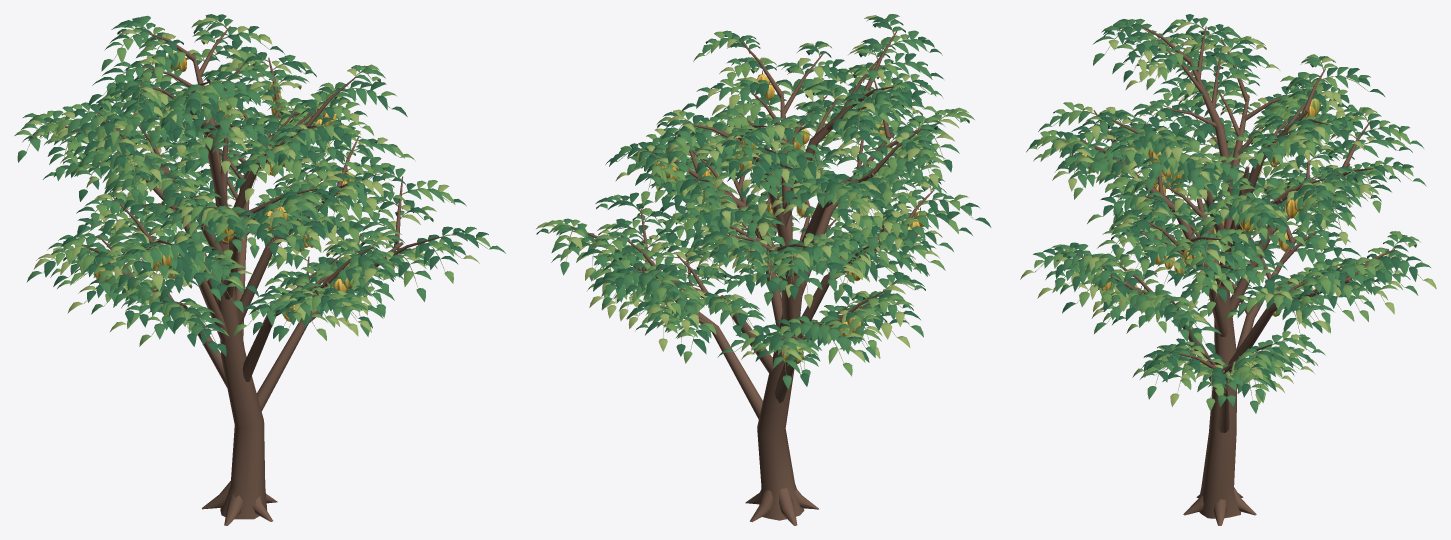
3 views of the same model, side by side, from view 1: azimuth 30°, elevation 25°; view 2: azimuth 150°, elevation 25°; view 3: azimuth 270°, elevation 25° (orthographic). The views are drawn at different scales.
Parts seen in each view (by area): view 1: Compound canopy, Trunk and limbs, Leaf stems, Fruit clusters; view 2: Compound canopy, Trunk and limbs, Leaf stems, Fruit clusters; view 3: Compound canopy, Trunk and limbs, Leaf stems, Fruit clusters.
Part boxes in pixels (left/top/right/bottom): Compound canopy: left=14, top=14, right=505, bottom=356; Trunk and limbs: left=47, top=26, right=439, bottom=525; Leaf stems: left=26, top=21, right=488, bottom=342; Fruit clusters: left=94, top=50, right=354, bottom=321; Compound canopy: left=536, top=14, right=991, bottom=389; Trunk and limbs: left=570, top=31, right=940, bottom=525; Leaf stems: left=549, top=25, right=974, bottom=374; Fruit clusters: left=652, top=70, right=926, bottom=364; Compound canopy: left=1020, top=14, right=1436, bottom=413; Trunk and limbs: left=1062, top=22, right=1394, bottom=525; Leaf stems: left=1035, top=23, right=1422, bottom=399; Fruit clusters: left=1080, top=98, right=1320, bottom=316.
Bounding box in the file's own units: 2.84 × 3.09 × 2.55.
